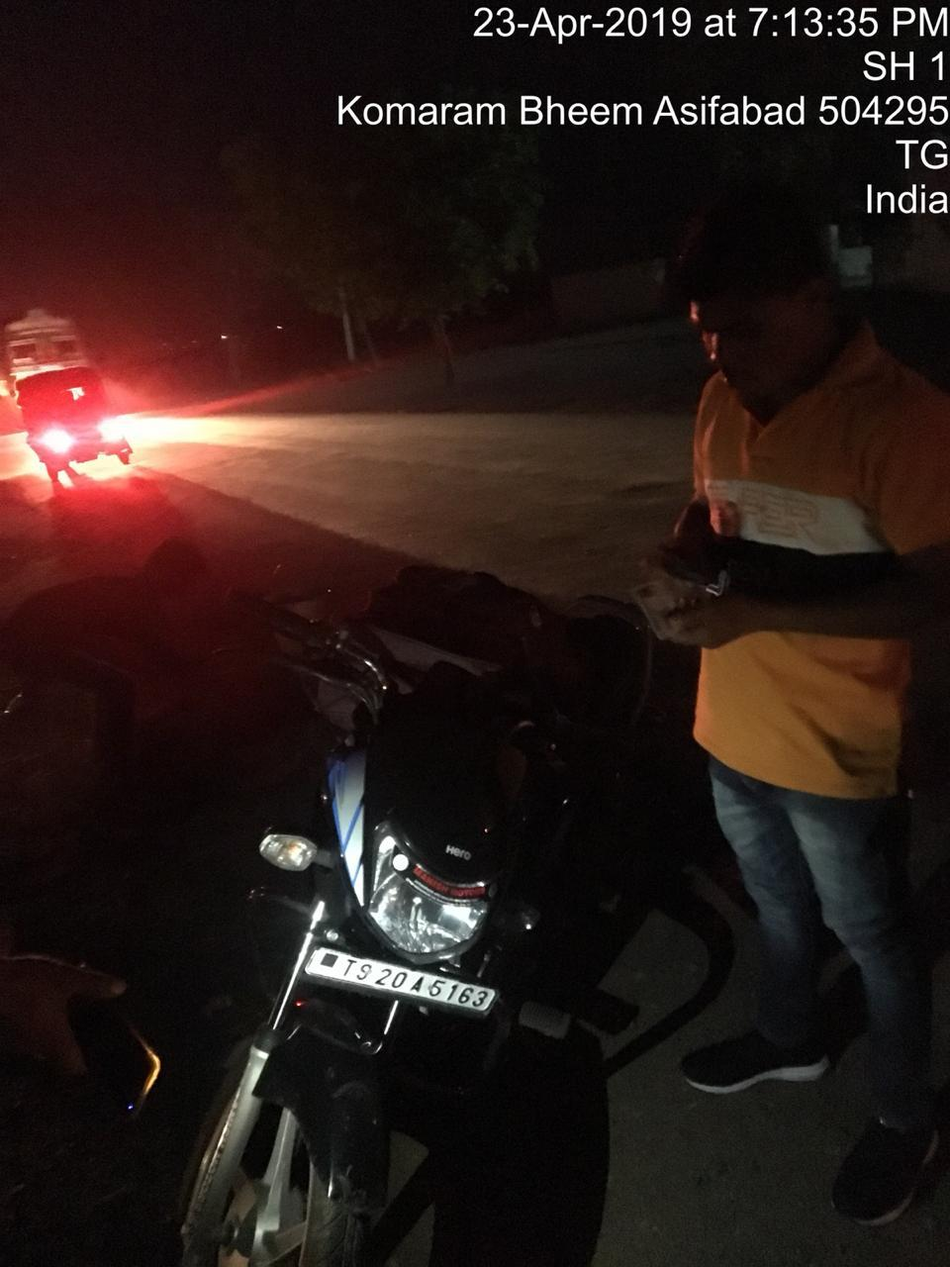plate: (279, 914, 517, 1049)
